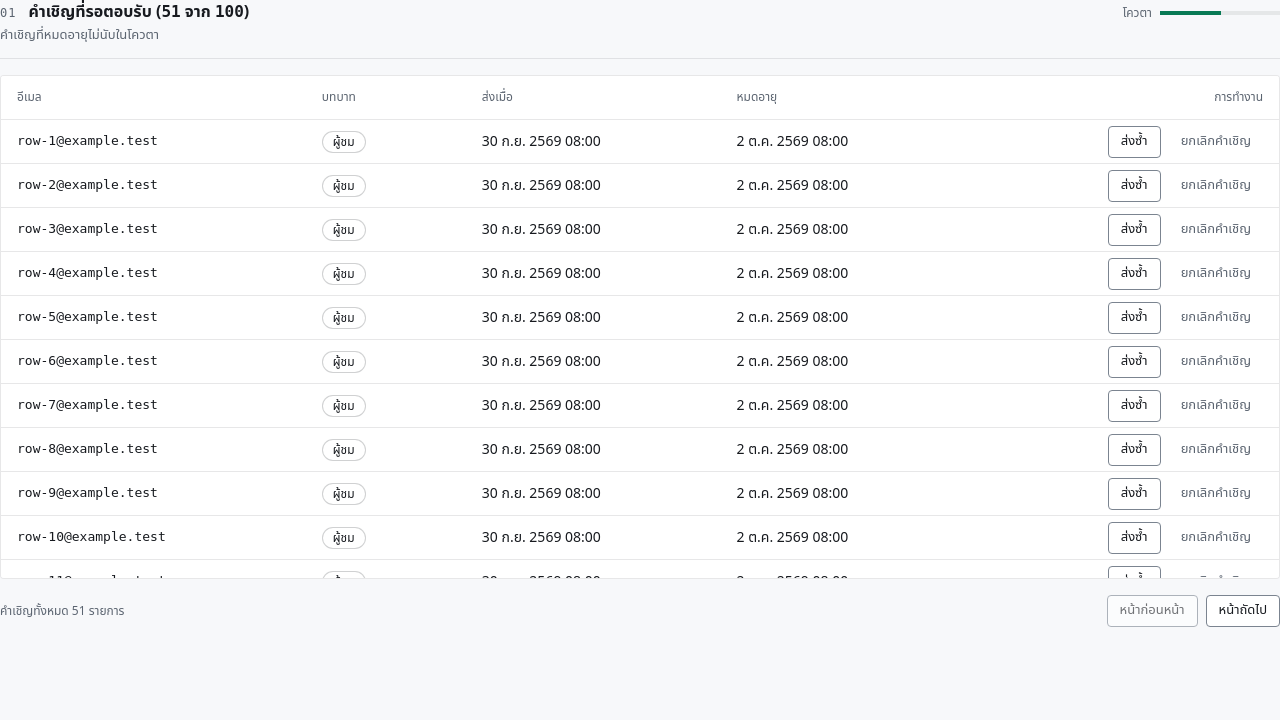
it: invitation cancel › keeps the open page and pulls row 51 up when a first-page row of 51 is canceled
Click the button "ยกเลิกคำเชิญ" in the row of "row-1@example.test": (1216, 142) [1169, 126, 1263, 158]
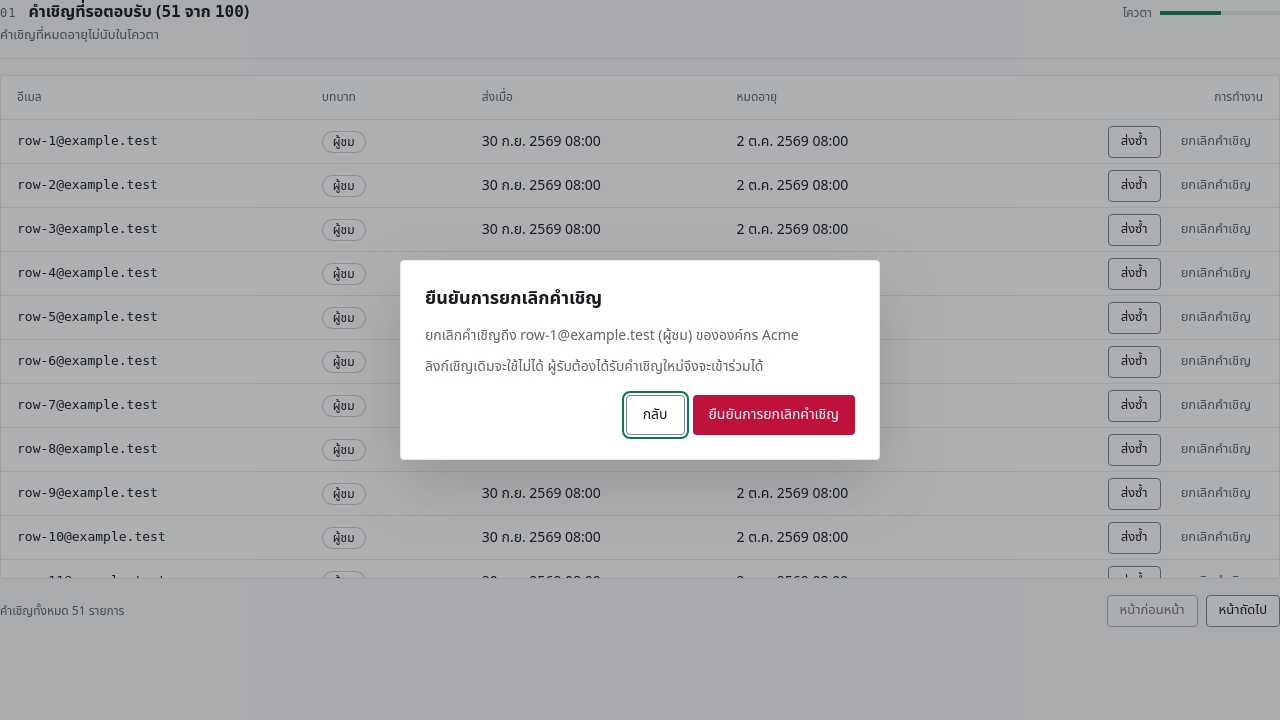
Click the button with test id "invitation-cancel-confirm": (774, 415) [692, 395, 855, 435]
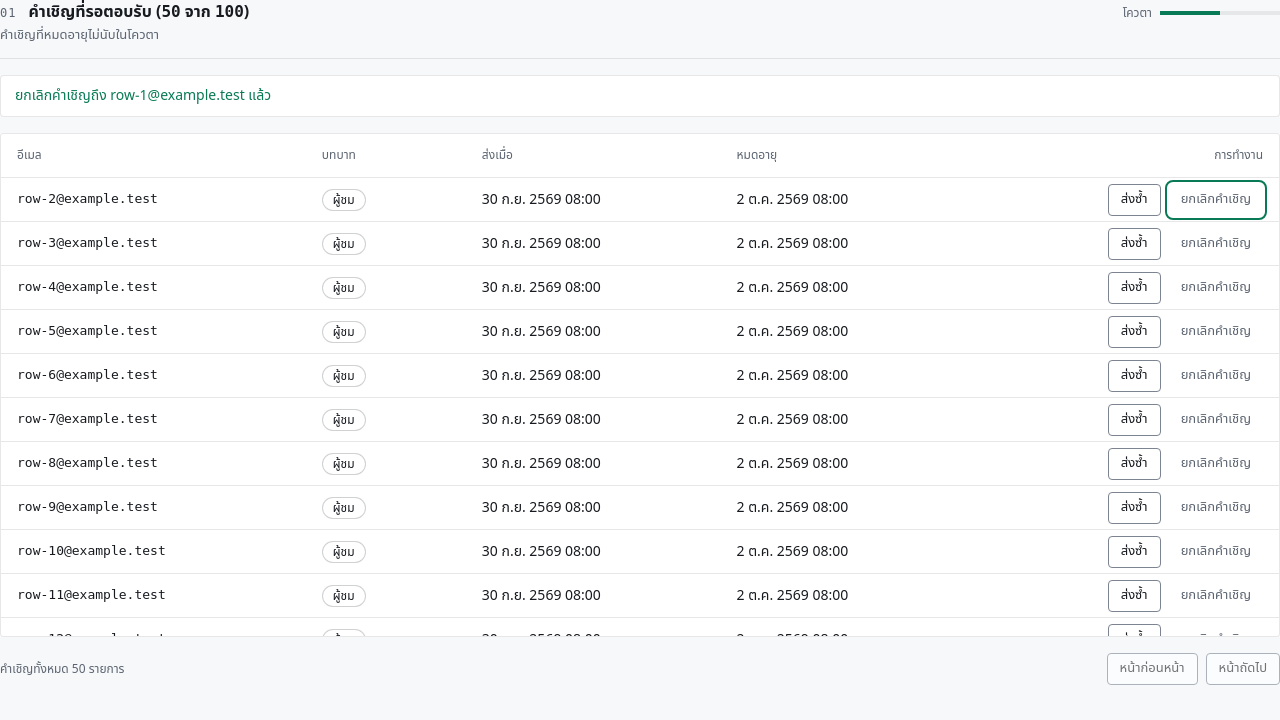
Expected: the text with test id "pending-invitations-limit" reads "100", [215, 2, 244, 21]
Result: the text "ยกเลิกคำเชิญถึง row-1@example.test แล้ว" is shown at [0, 74, 1279, 116]
Result: the text with test id "pending-invitations-count" reads "50" at [161, 2, 181, 21]
